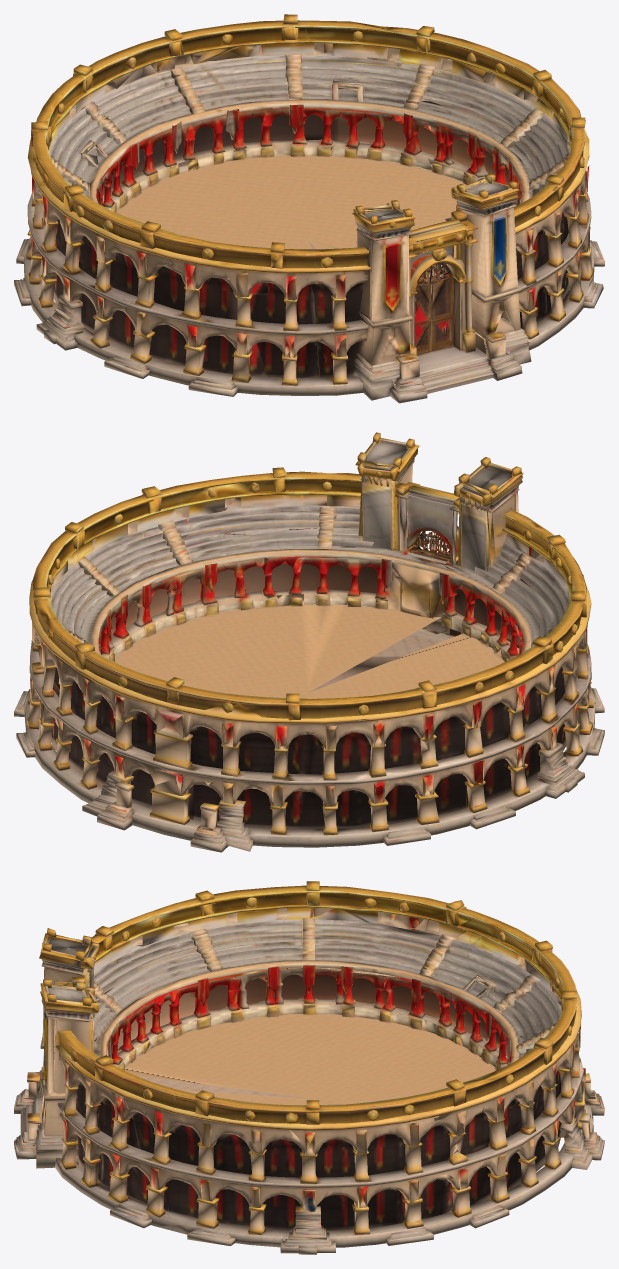
The model's file is camp_colisee_v2.glb.
The picture shows the model from 3 angles, top to bottom: view 1: azimuth 30°, elevation 25°; view 2: azimuth 150°, elevation 25°; view 3: azimuth 270°, elevation 25°; orthographic projection. The views are drawn at different scales.
Size of the model in its own units: 0.9326 by 0.2988 by 0.9482.
Materials: 1 (1 with a texture image).
